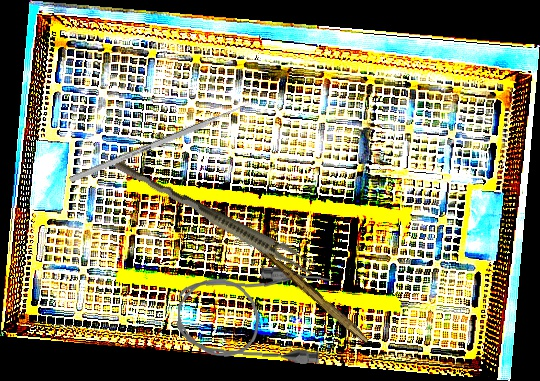Cannula: (175, 262, 332, 365)
Pusher: (68, 97, 260, 184)
Scalpel Handle: (244, 233, 373, 345)
Tissue Forceps: (109, 156, 319, 277)
